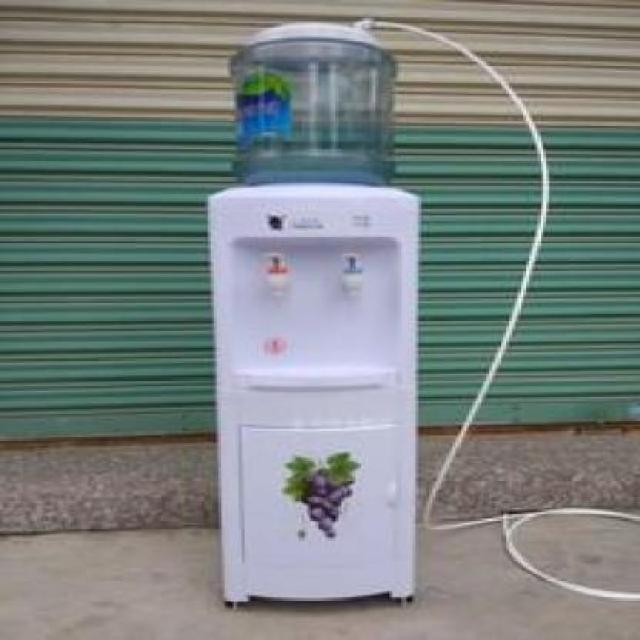cooler: (208, 20, 425, 612)
